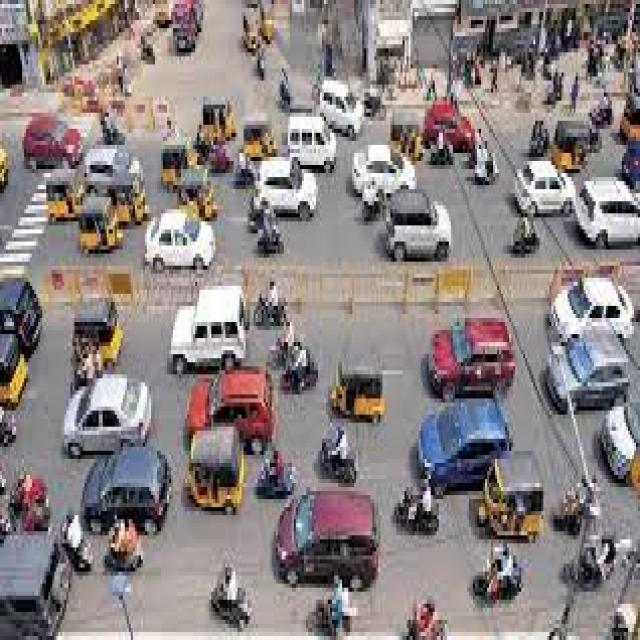vehicle: (534, 244, 640, 372), (270, 468, 386, 579), (410, 300, 520, 411), (38, 363, 166, 451), (279, 102, 370, 225), (408, 385, 498, 500), (161, 368, 278, 450), (149, 262, 248, 358), (183, 548, 284, 640), (60, 464, 170, 540), (181, 422, 253, 538), (546, 335, 640, 416), (479, 459, 556, 549), (93, 34, 159, 125), (506, 142, 578, 218), (324, 355, 400, 426), (302, 592, 411, 640), (26, 92, 90, 171), (579, 387, 640, 460), (402, 466, 452, 554), (481, 540, 548, 602), (405, 559, 451, 640), (385, 200, 448, 256), (264, 327, 321, 388), (238, 104, 278, 188), (305, 421, 370, 470), (348, 142, 416, 186), (558, 464, 590, 544), (256, 264, 292, 322)
